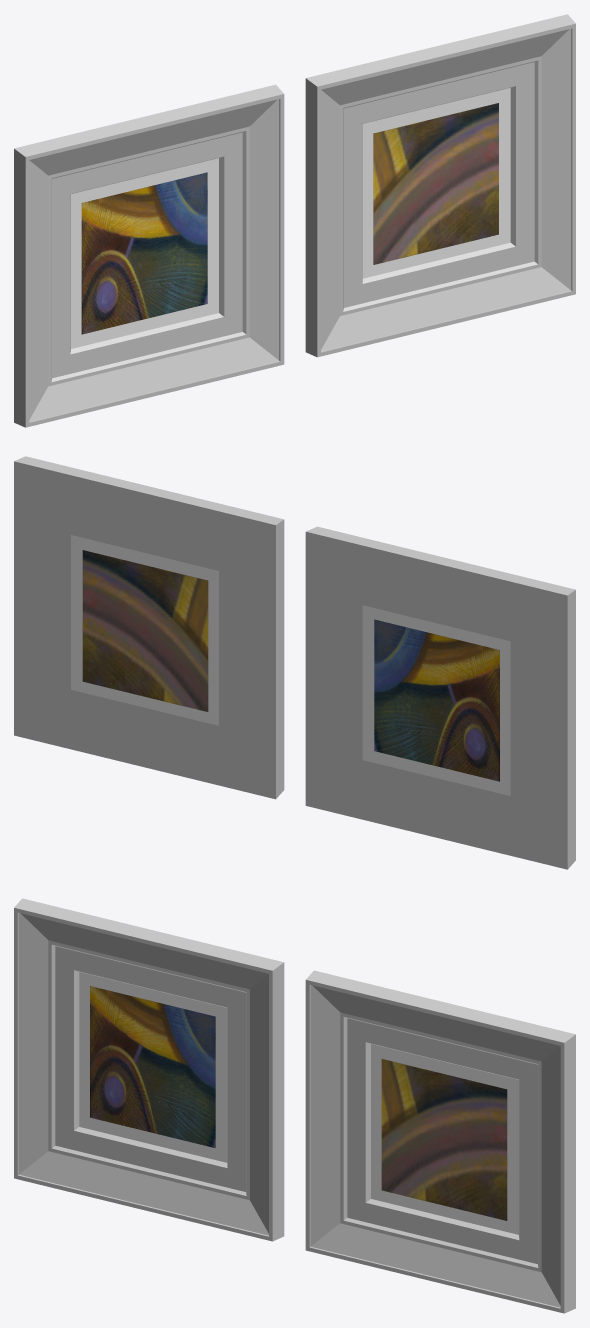
The model's file is pictures1.fbx.
The picture shows the model from 3 angles, top to bottom: view 1: azimuth 30°, elevation 25°; view 2: azimuth 150°, elevation 25°; view 3: azimuth 330°, elevation 25°; orthographic projection.
Parts seen in each view (by area): view 1: Component_4_1, Component_3_1; view 2: Component_3_1, Component_4_1; view 3: Component_3_1, Component_4_1.
Boxes of the visible parts, <box> form: Component_4_1: <box>305,14,575,357</box>; Component_3_1: <box>14,84,284,427</box>; Component_3_1: <box>305,526,575,869</box>; Component_4_1: <box>14,456,284,799</box>; Component_3_1: <box>14,898,284,1241</box>; Component_4_1: <box>305,970,575,1313</box>.
Bounding box in the file's own units: 148 × 70.22 × 4.58.
